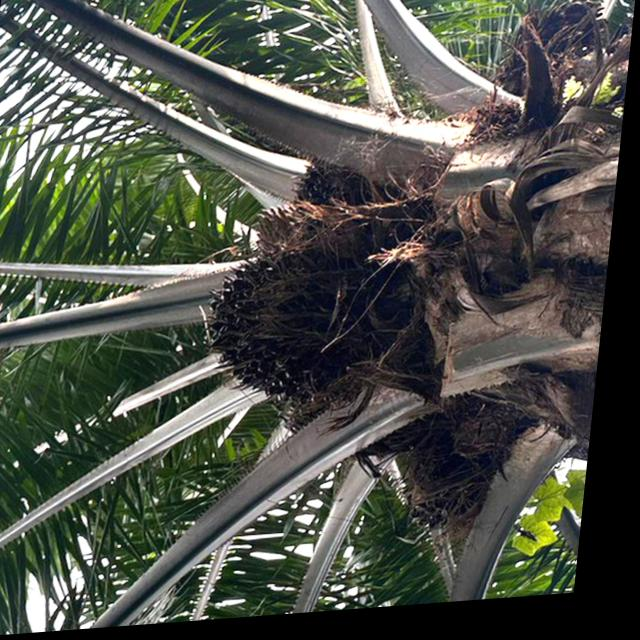ripe: (187, 225, 411, 428)
